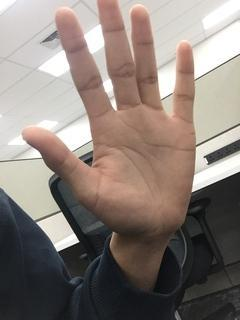hand: (22, 0, 199, 232)
